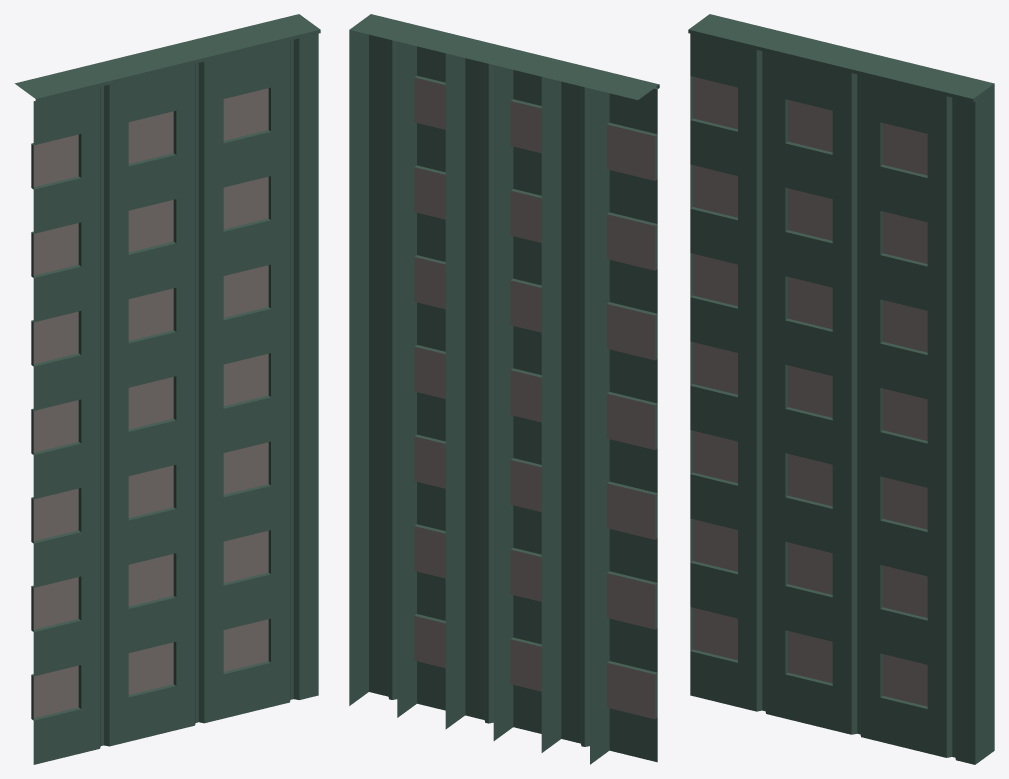
The picture shows the model from 3 angles, left to right: view 1: azimuth 30°, elevation 25°; view 2: azimuth 150°, elevation 25°; view 3: azimuth 330°, elevation 25°; orthographic projection.
Visible parts, largest first — view 1: Column.028; view 2: Column.028; view 3: Column.028.
Part boxes in pixels (x1,y1,x2,y2): Column.028: [14, 14, 320, 764]; Column.028: [349, 14, 659, 764]; Column.028: [688, 14, 994, 764].
Bounding box in the file's own units: 1671 × 3742 × 217.
